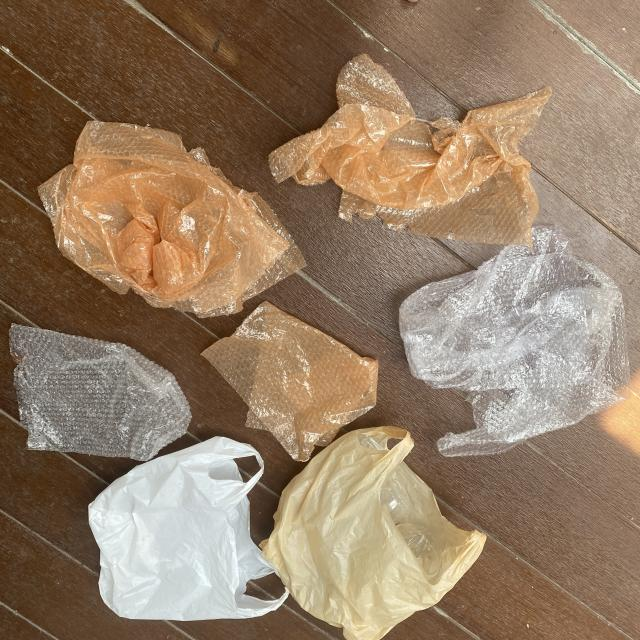Single-layer Plastic: (268, 55, 552, 247), (36, 121, 303, 323), (398, 232, 630, 459), (255, 425, 490, 640), (88, 436, 289, 623), (201, 300, 379, 460), (7, 325, 191, 463)
